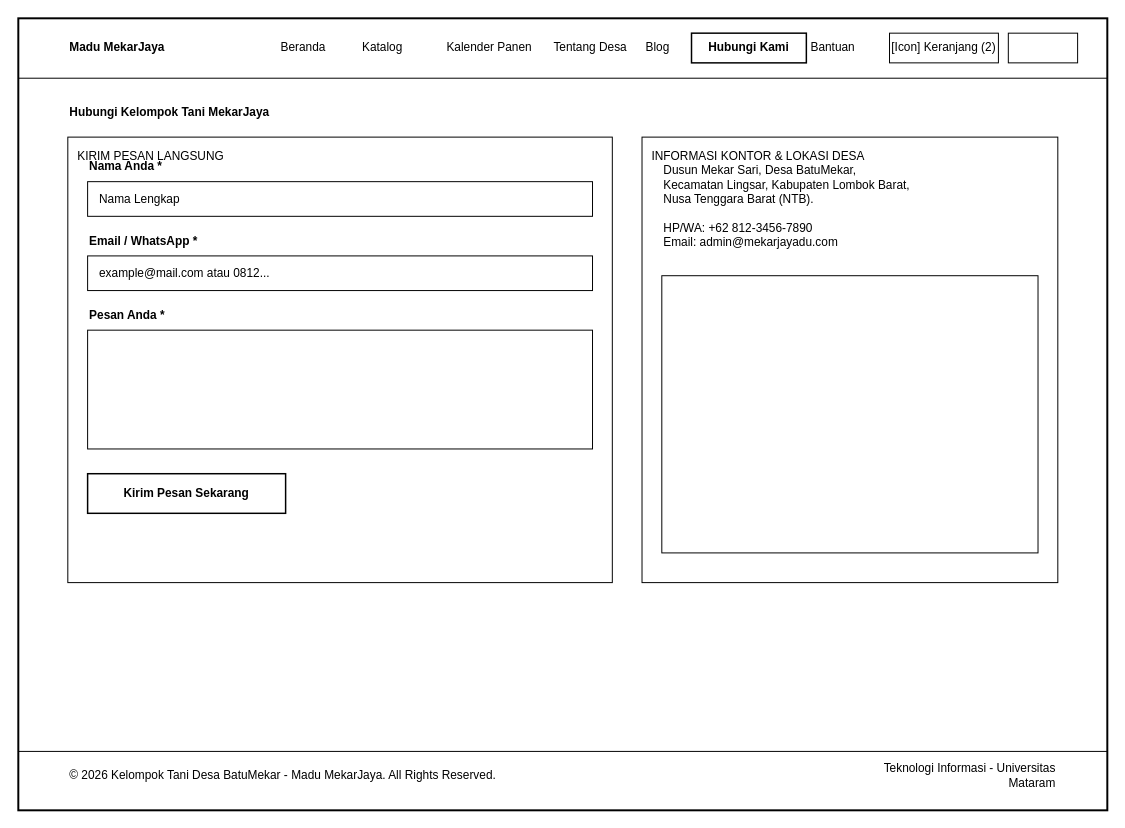
Some shapes in this 1125 by 828 pixel diagram are drawn without their labels. Here are the shapes that lost their labels. From the top down, the centre of each, then its label:
pixel 1042 47: [Icon] Akun
pixel 340 389: Tulis pertanyaan Anda di sini...
pixel 849 414: [ Google Maps - Peta Lokasi Desa BatuMekar ]
